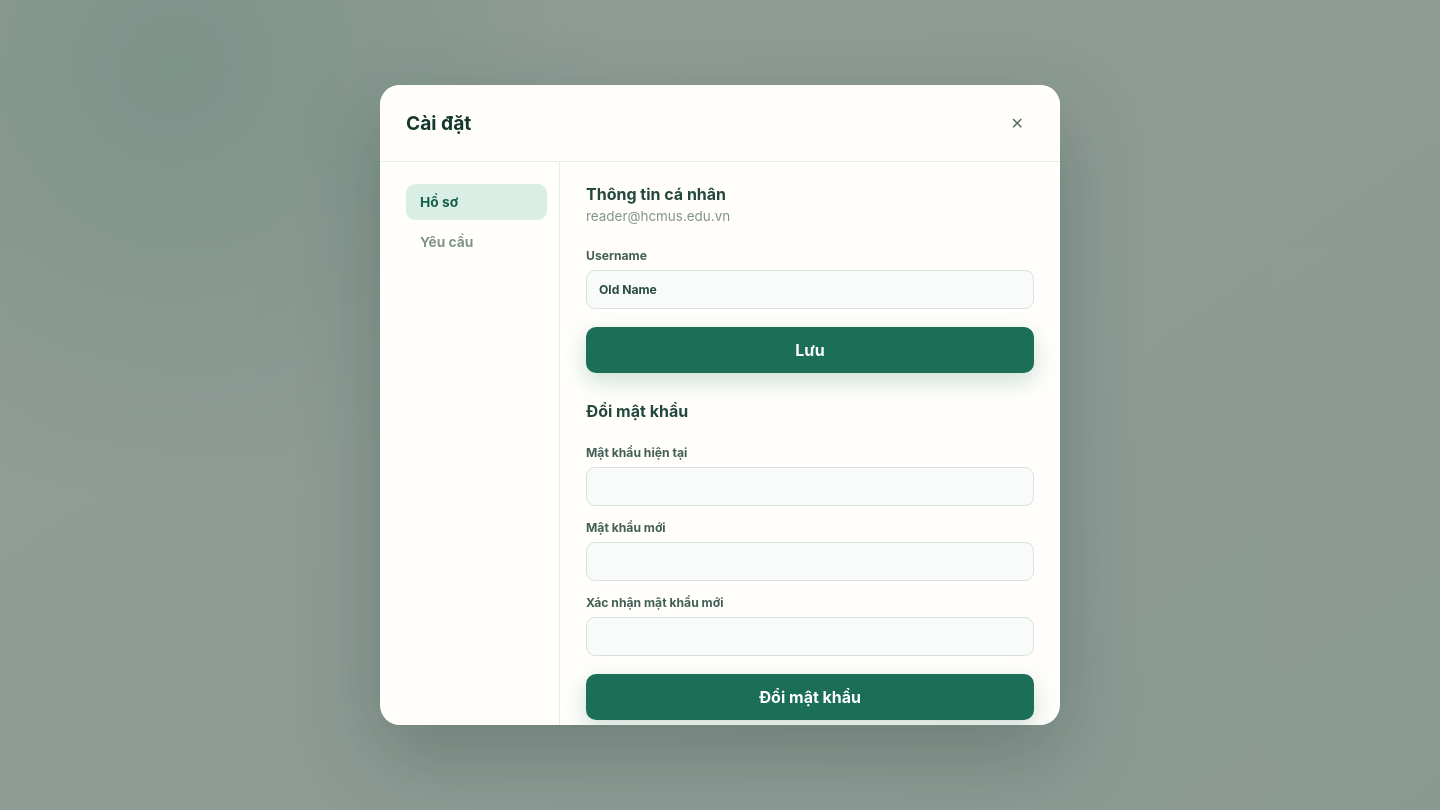
Scenario: SettingsModal › shows a pending status instead of the button when a request is already pending
expect the field showing "Old Name" is shown: met, box [586,270,1034,309]
Click the button "Yêu cầu".
click(476, 242)  # box [406,224,547,260]
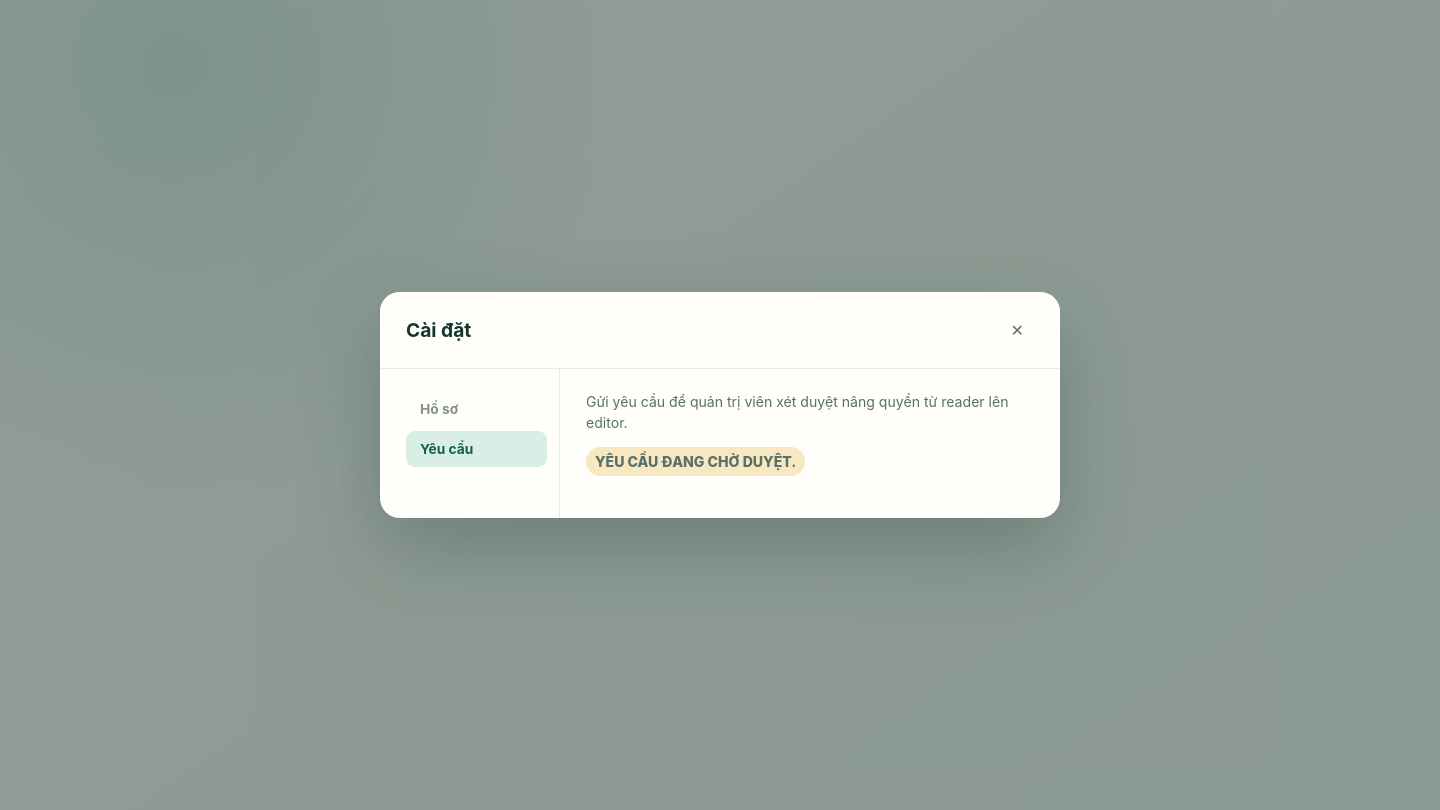
expect the text "Yêu cầu đang chờ duyệt." is shown: met, box [586,447,805,476]
